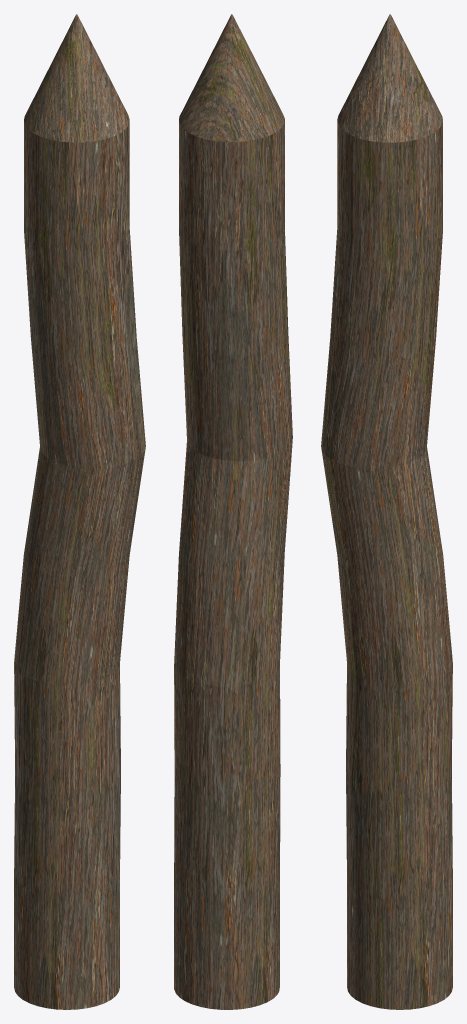
The model's file is estacamodel2.glb.
3 views of the same model, side by side, from view 1: azimuth 90°, elevation 25°; view 2: azimuth 150°, elevation 25°; view 3: azimuth 270°, elevation 25° (orthographic).
Parts seen in each view (by area): view 1: Cilindro; view 2: Cilindro; view 3: Cilindro.
Boxes of the visible parts, <box> form: Cilindro: <box>14,14,145,1009</box>; Cilindro: <box>174,14,292,1009</box>; Cilindro: <box>321,14,452,1009</box>.
Size of the model in its own units: 1.12 by 11.28 by 1.39.
1 material, 1 textured.
